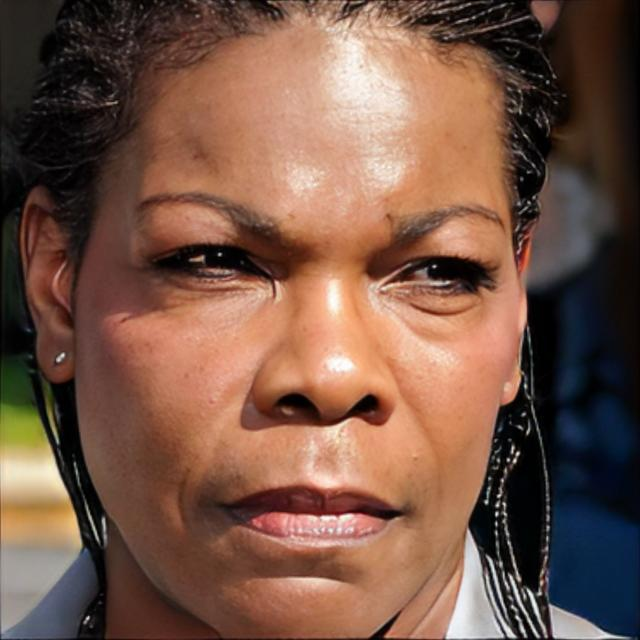anger: (83, 54, 514, 640)
